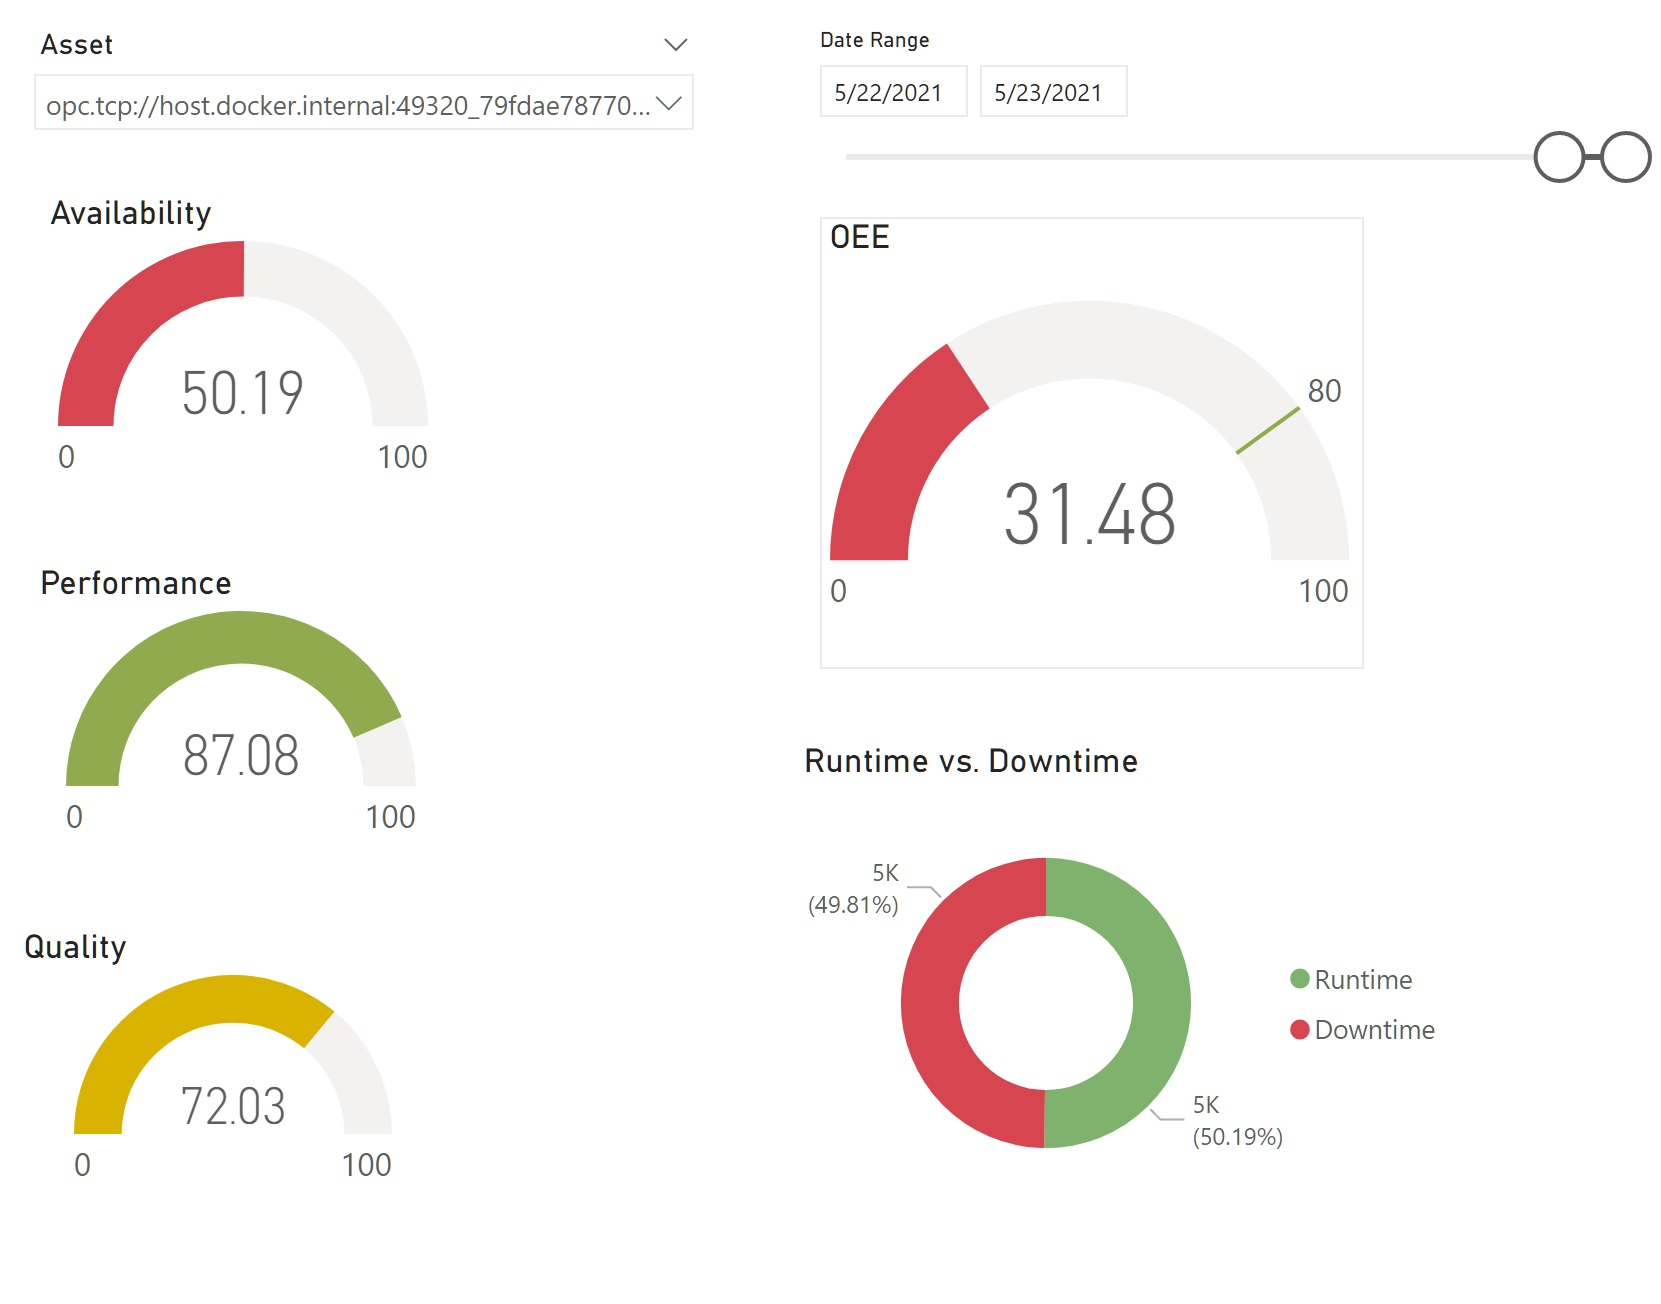

What the dashboard file says about the page in this screenshot:
{"tool":"powerbi","page":{"name":"OEE","canvas":[1280,720],"ordinal":0},"visuals":[{"type":"slicer","fields":{"Values":["asset-oee-table.AssetId"]},"box":[45.7,12.9,350,132.9],"z":0},{"type":"gauge","title":"Availability","fields":{"MinValue":["asset-oee-table.MinimumPercent"],"MaxValue":["asset-oee-table.MaxPercent"],"Y":["asset-oee-table.AvailabilityPercent"],"TargetValue":["asset-oee-table.AvailabilityTarget"]},"box":[59,101,203,153],"z":1000},{"type":"slicer","fields":{"Values":["asset-oee-table.ShiftStartTime"]},"box":[436,13,437,123],"z":2000},{"type":"gauge","title":"Quality","fields":{"Y":["asset-oee-table.QualityPercent"],"MinValue":["asset-oee-table.QualityMin"],"MaxValue":["asset-oee-table.QualityMax"],"TargetValue":["asset-oee-table.QualityTarget"]},"box":[46,468,219,140],"z":3000},{"type":"gauge","title":"Performance","fields":{"Y":["asset-oee-table.PerformancePercent"],"MinValue":["asset-oee-table.PerformanceMin"],"MaxValue":["asset-oee-table.PerformanceMax"],"TargetValue":["asset-oee-table.PerformanceTarget"]},"box":[54,286,211,148],"z":4000},{"type":"gauge","title":"OEE","fields":{"Y":["asset-oee-table.OEEPercent"],"MinValue":["asset-oee-table.OEEMin"],"MaxValue":["asset-oee-table.OEEMax"],"TargetValue":["asset-oee-table.OEETarget"]},"box":[449,113,272,226],"z":5000},{"type":"donutChart","title":"Runtime vs. Downtime","fields":{"Y":["Sum(asset-oee-table.RunTime)","Sum(asset-oee-table.DownTime)"]},"box":[436,375,335,243],"z":6000}]}

Visuals, with their boxes on the page's 1280x720 design canvas (x1, y1, x2, y2). These are canvas units, not pixel positions in the 1661x1304 screenshot, which may show the page scaled, cropped or inside an application window:
slicer - asset-oee-table.AssetId: [46, 13, 396, 146]
"Availability" gauge: [59, 101, 262, 254]
slicer - asset-oee-table.ShiftStartTime: [436, 13, 873, 136]
"Quality" gauge: [46, 468, 265, 608]
"Performance" gauge: [54, 286, 265, 434]
"OEE" gauge: [449, 113, 721, 339]
"Runtime vs. Downtime" donutChart: [436, 375, 771, 618]
